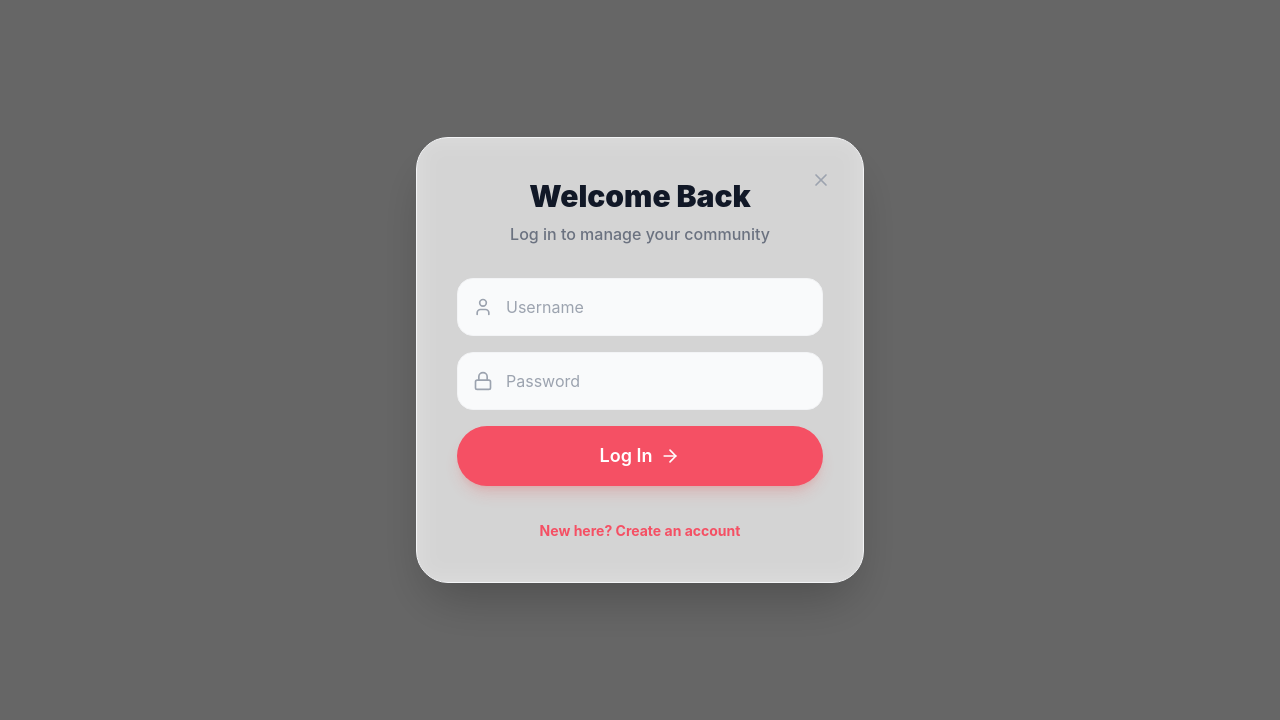
Test case: AuthModal Component › switches to signup form
Click the button "New here? Create an account". click: (640, 531)
box: [540,521,740,541]
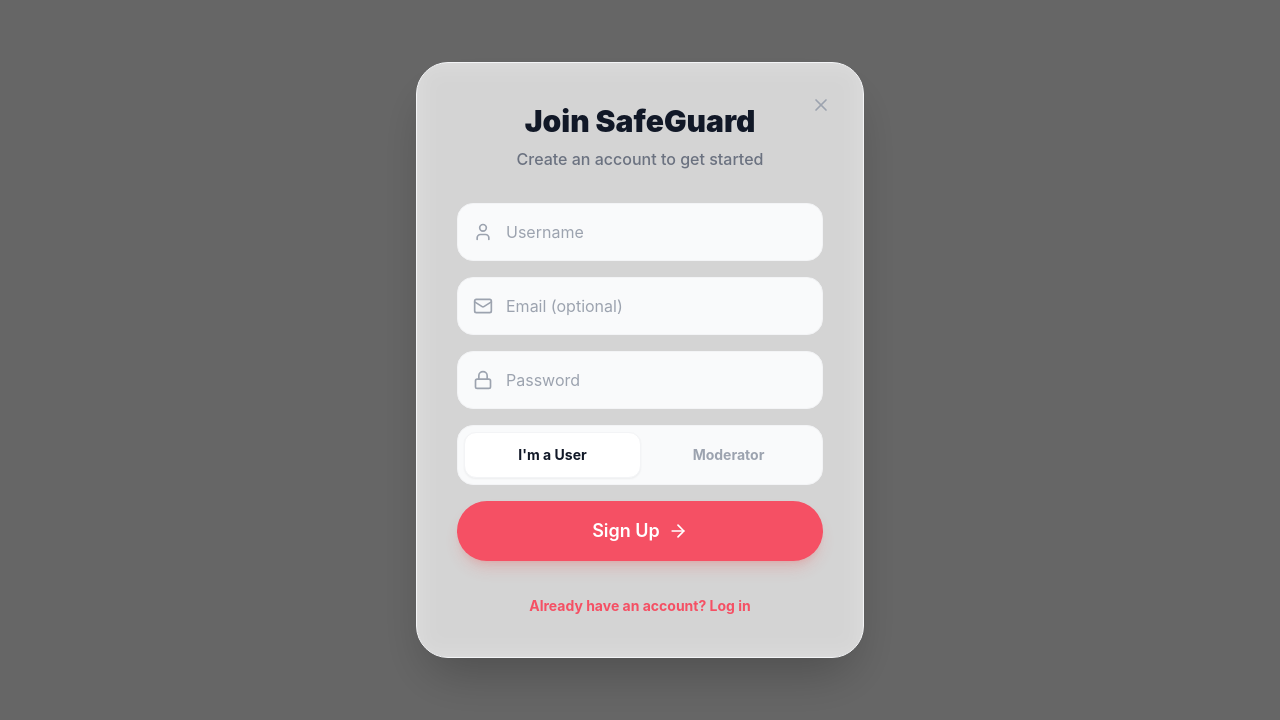
expect the heading "Join SafeGuard" is shown: met, box [525,103,755,139]
expect the field with placeholder "Email (optional)" is shown: met, box [457,277,823,335]
